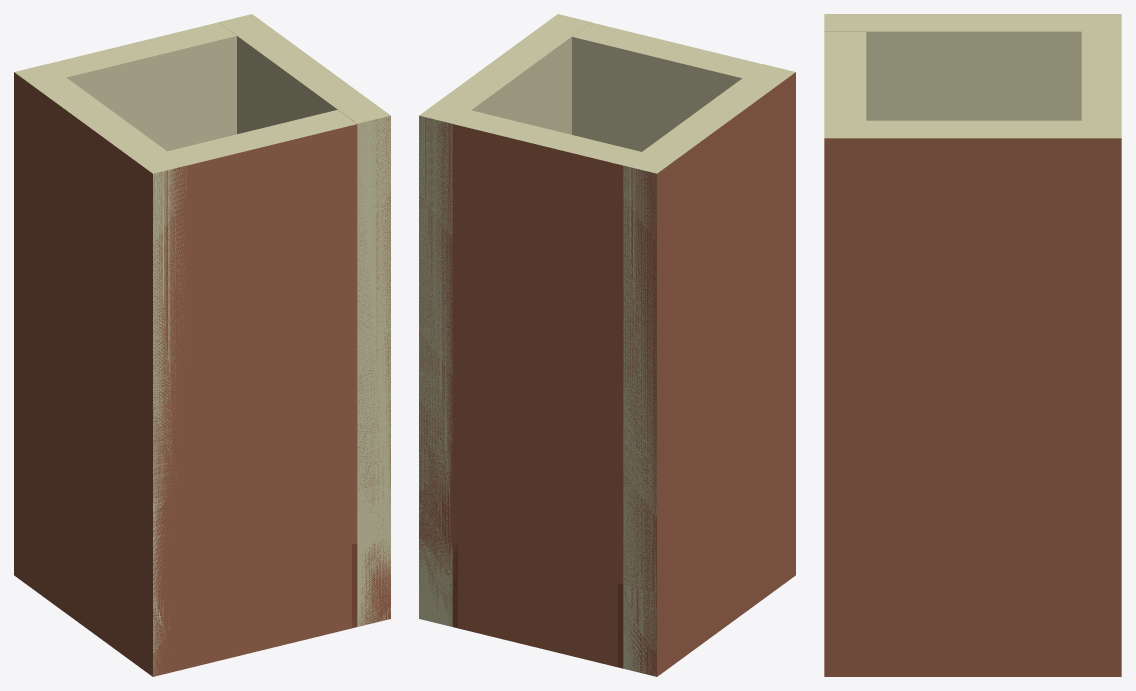
The model's file is Walls.fbx.
3 views of the same model, side by side, from view 1: azimuth 30°, elevation 25°; view 2: azimuth 150°, elevation 25°; view 3: azimuth 270°, elevation 25° (orthographic). The views are drawn at different scales.
Visible parts, largest first — view 1: Cube.004, Cube.002, Cube.003, Cube.001; view 2: Cube.003, Cube.004, Cube.002, Cube.001; view 3: Cube.001, Cube.003, Cube.004, Cube.002.
Part boxes in pixels (x1,y1,x2,y2): Cube.004: (83, 109, 390, 676); Cube.002: (14, 64, 186, 676); Cube.003: (14, 22, 390, 637); Cube.001: (218, 14, 390, 627); Cube.003: (419, 37, 792, 666); Cube.004: (419, 22, 795, 676); Cube.002: (618, 64, 795, 676); Cube.001: (419, 14, 591, 628); Cube.001: (824, 120, 1121, 676); Cube.003: (824, 31, 1121, 676); Cube.004: (824, 32, 1121, 676); Cube.002: (824, 14, 1121, 120).
Bounding box in the file's own units: 99 × 200 × 100.
